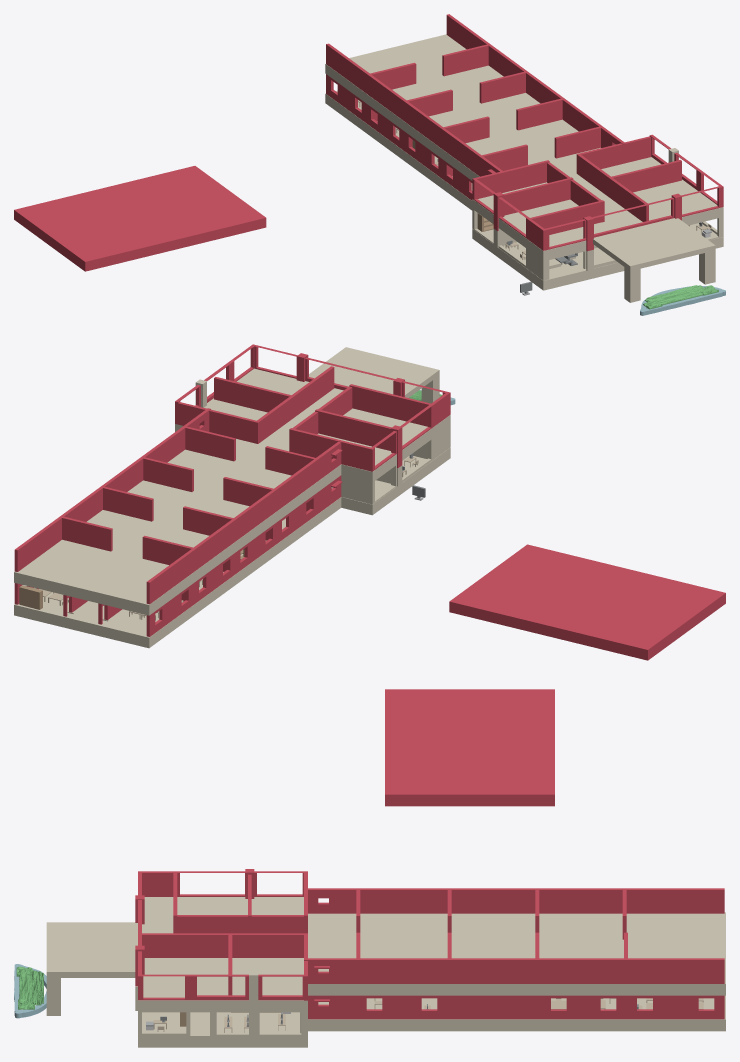
File: raphaelmain.glb
3 views of the same model, one above another, from view 1: azimuth 30°, elevation 25°; view 2: azimuth 150°, elevation 25°; view 3: azimuth 270°, elevation 25° (orthographic). The views are drawn at different scales.
Parts seen in each view (by area): view 1: Mesh_Mesh_head_geo.001_lambert2SG.001; view 2: Mesh_Mesh_head_geo.001_lambert2SG.001; view 3: Mesh_Mesh_head_geo.001_lambert2SG.001.
Boxes of the visible parts, bbox=[...] form: Mesh_Mesh_head_geo.001_lambert2SG.001: bbox=[14, 14, 725, 315]; Mesh_Mesh_head_geo.001_lambert2SG.001: bbox=[14, 344, 725, 660]; Mesh_Mesh_head_geo.001_lambert2SG.001: bbox=[14, 689, 725, 1047].
Bounding box in the file's own units: 566 × 84 × 545.
